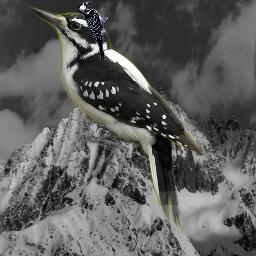Woodpecker: (28, 1, 202, 228), (77, 0, 108, 60)
